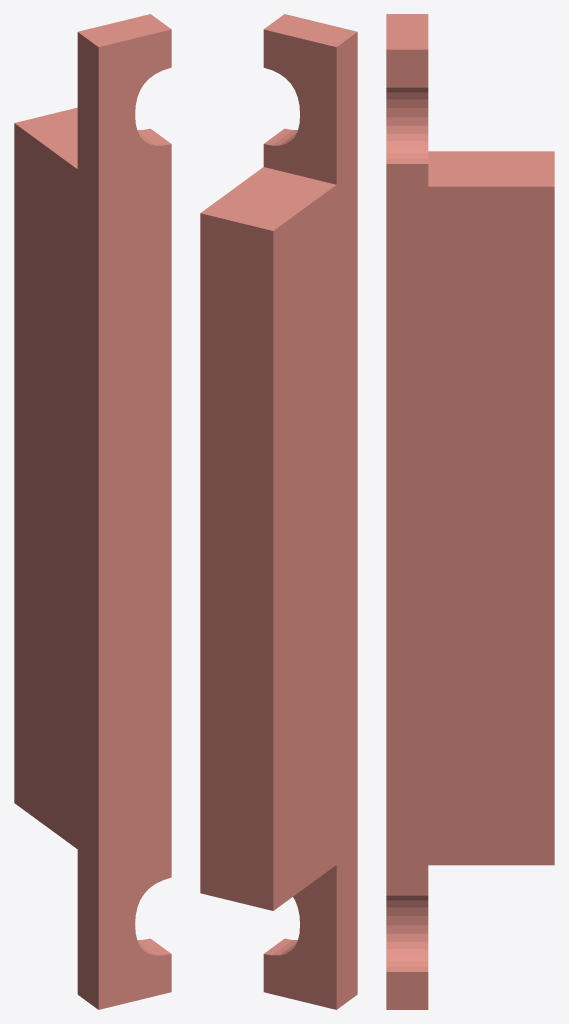
Rendered from tinker.obj.
3 renders of one model, left to right at view 1: azimuth 30°, elevation 25°; view 2: azimuth 150°, elevation 25°; view 3: azimuth 270°, elevation 25°, orthographic.
Parts seen in each view (by area): view 1: obj_0; view 2: obj_0; view 3: obj_0.
Part boxes in pixels (x1,y1,x2,y2): obj_0: [14, 14, 171, 1009]; obj_0: [200, 14, 357, 1009]; obj_0: [386, 14, 554, 1009].
Size of the model in its own units: 10 by 126 by 20.
